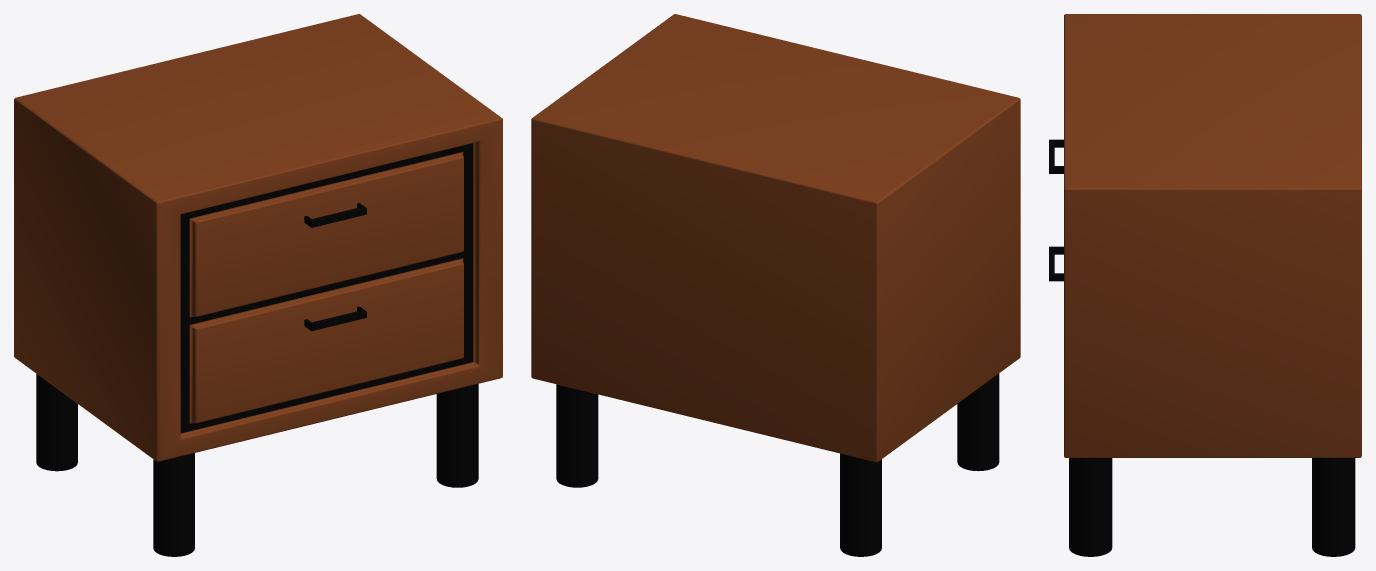
Rendered from bedside_table 1.fbx.
3 views of the same model, side by side, from view 1: azimuth 30°, elevation 25°; view 2: azimuth 150°, elevation 25°; view 3: azimuth 270°, elevation 25° (orthographic). The views are drawn at different scales.
Visible parts, largest first — view 1: bedside_table.009; view 2: bedside_table.009; view 3: bedside_table.009.
Part boxes in pixels (x1=…): bedside_table.009: x1=14, y1=14, x2=502, y2=556; bedside_table.009: x1=531, y1=14, x2=1020, y2=556; bedside_table.009: x1=1049, y1=14, x2=1361, y2=556.
Bounding box in the file's own units: 329 × 328 × 247.
